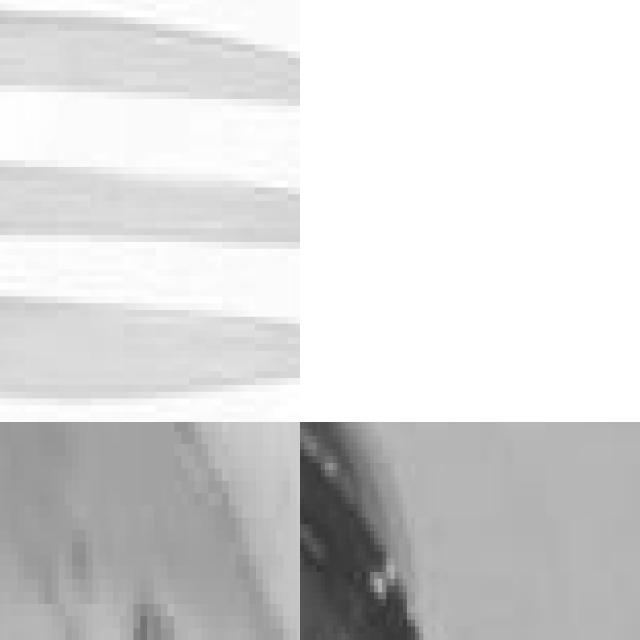forks: (0, 0, 300, 422), (0, 422, 300, 640)
spoons: (300, 422, 485, 640)
